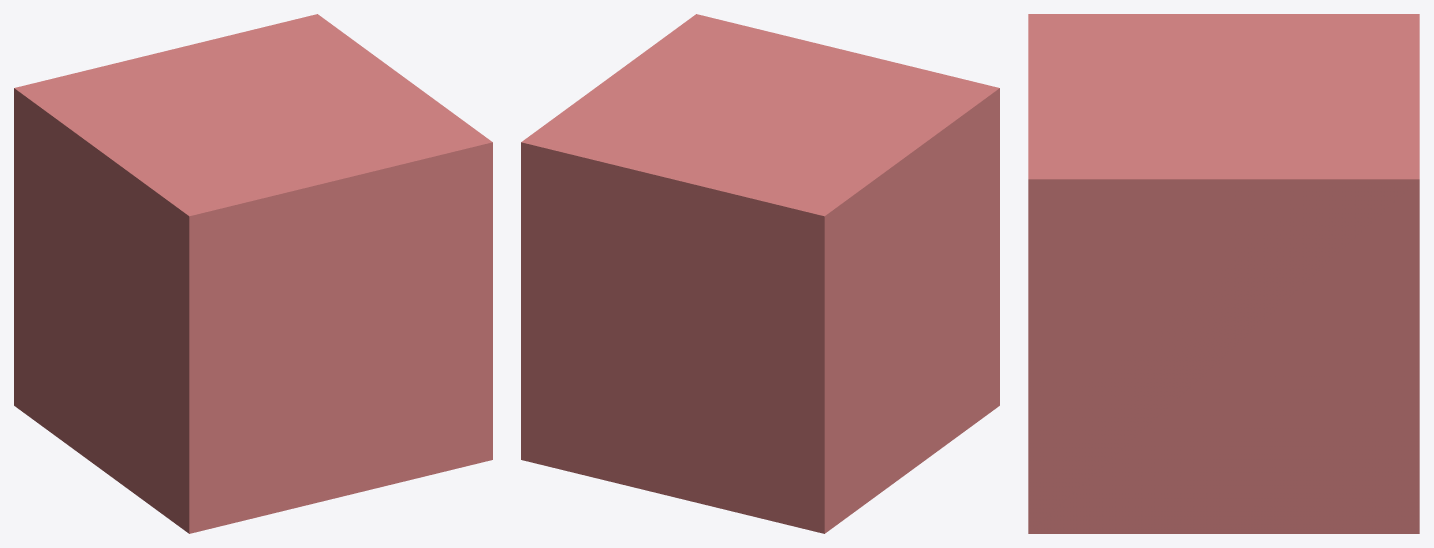
File: sm_test_godot_traps.gltf
3 renders of one model, left to right at view 1: azimuth 30°, elevation 25°; view 2: azimuth 150°, elevation 25°; view 3: azimuth 270°, elevation 25°, orthographic. The views are drawn at different scales.
Visible parts, largest first — view 1: body-col; view 2: body-col; view 3: body-col.
Part boxes in pixels (x1,y1,x2,y2): body-col: (14,14,492,533); body-col: (521,14,999,533); body-col: (1028,14,1419,533).
Size of the model in its own units: 1.4 by 1.4 by 1.4.
